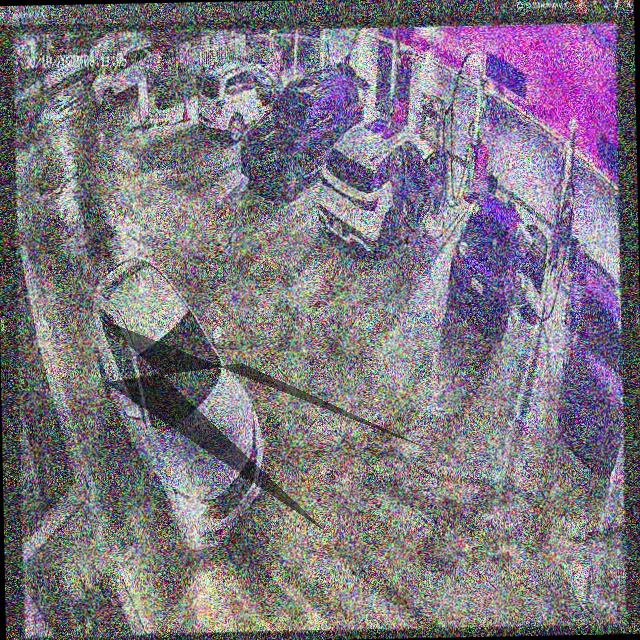Car: (88, 249, 261, 548), (320, 117, 448, 263), (240, 68, 364, 199), (453, 190, 547, 341)
